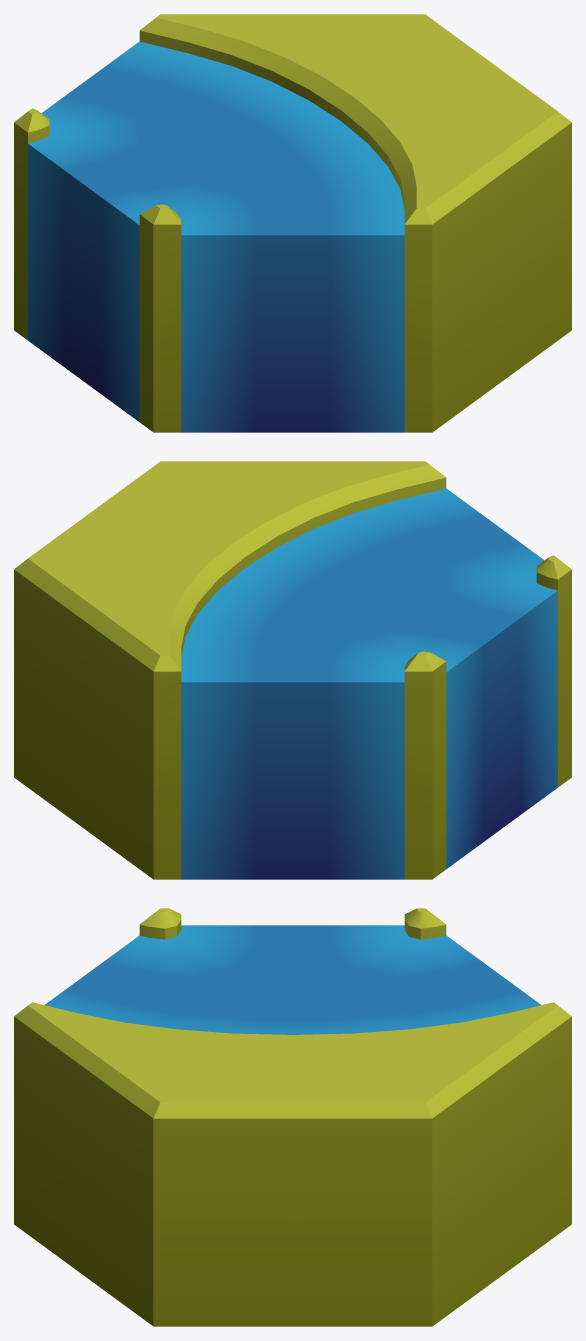
File: hex_river_G.glb
3 renders of one model, top to bottom at view 1: azimuth 30°, elevation 25°; view 2: azimuth 150°, elevation 25°; view 3: azimuth 270°, elevation 25°, orthographic.
Visible parts, largest first — view 1: hex_river_G; view 2: hex_river_G; view 3: hex_river_G.
Part boxes in pixels (left/top/right/bottom): hex_river_G: left=14, top=14, right=571, bottom=432; hex_river_G: left=14, top=461, right=571, bottom=879; hex_river_G: left=14, top=908, right=571, bottom=1326.
Bounding box in the file's own units: 2 × 1 × 2.31.
1 material, 1 textured.
